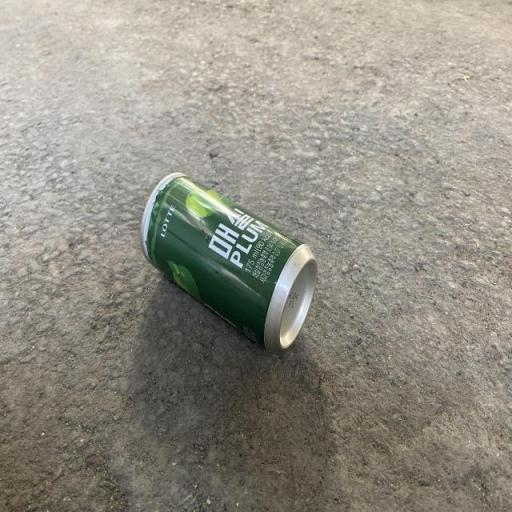metal: (136, 167, 328, 364)
